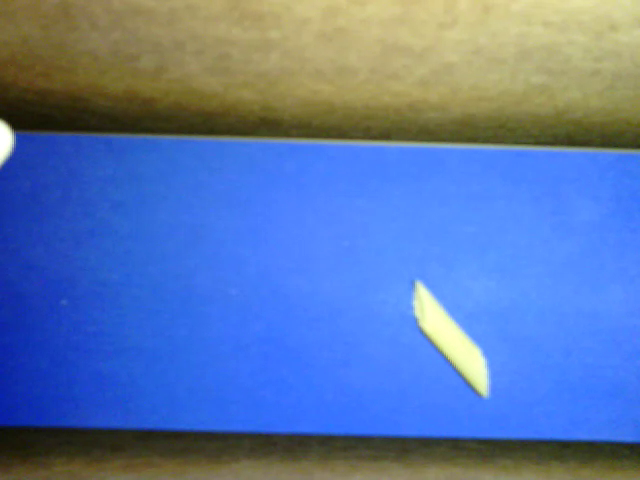penne: (412, 279, 490, 397)
